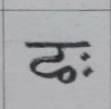anusvara: (82, 53, 88, 59)
